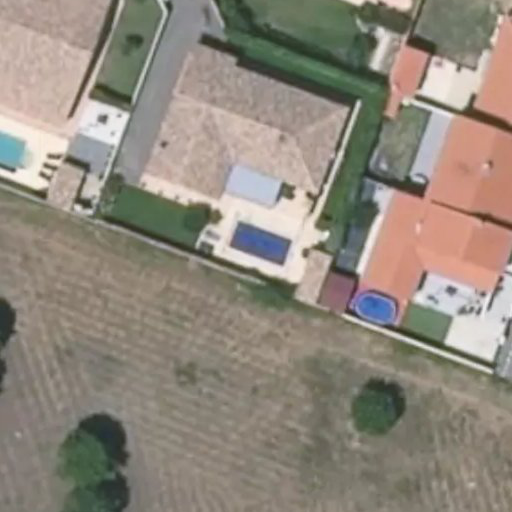pool: (226, 222, 294, 269), (352, 291, 397, 323), (1, 131, 27, 174)
